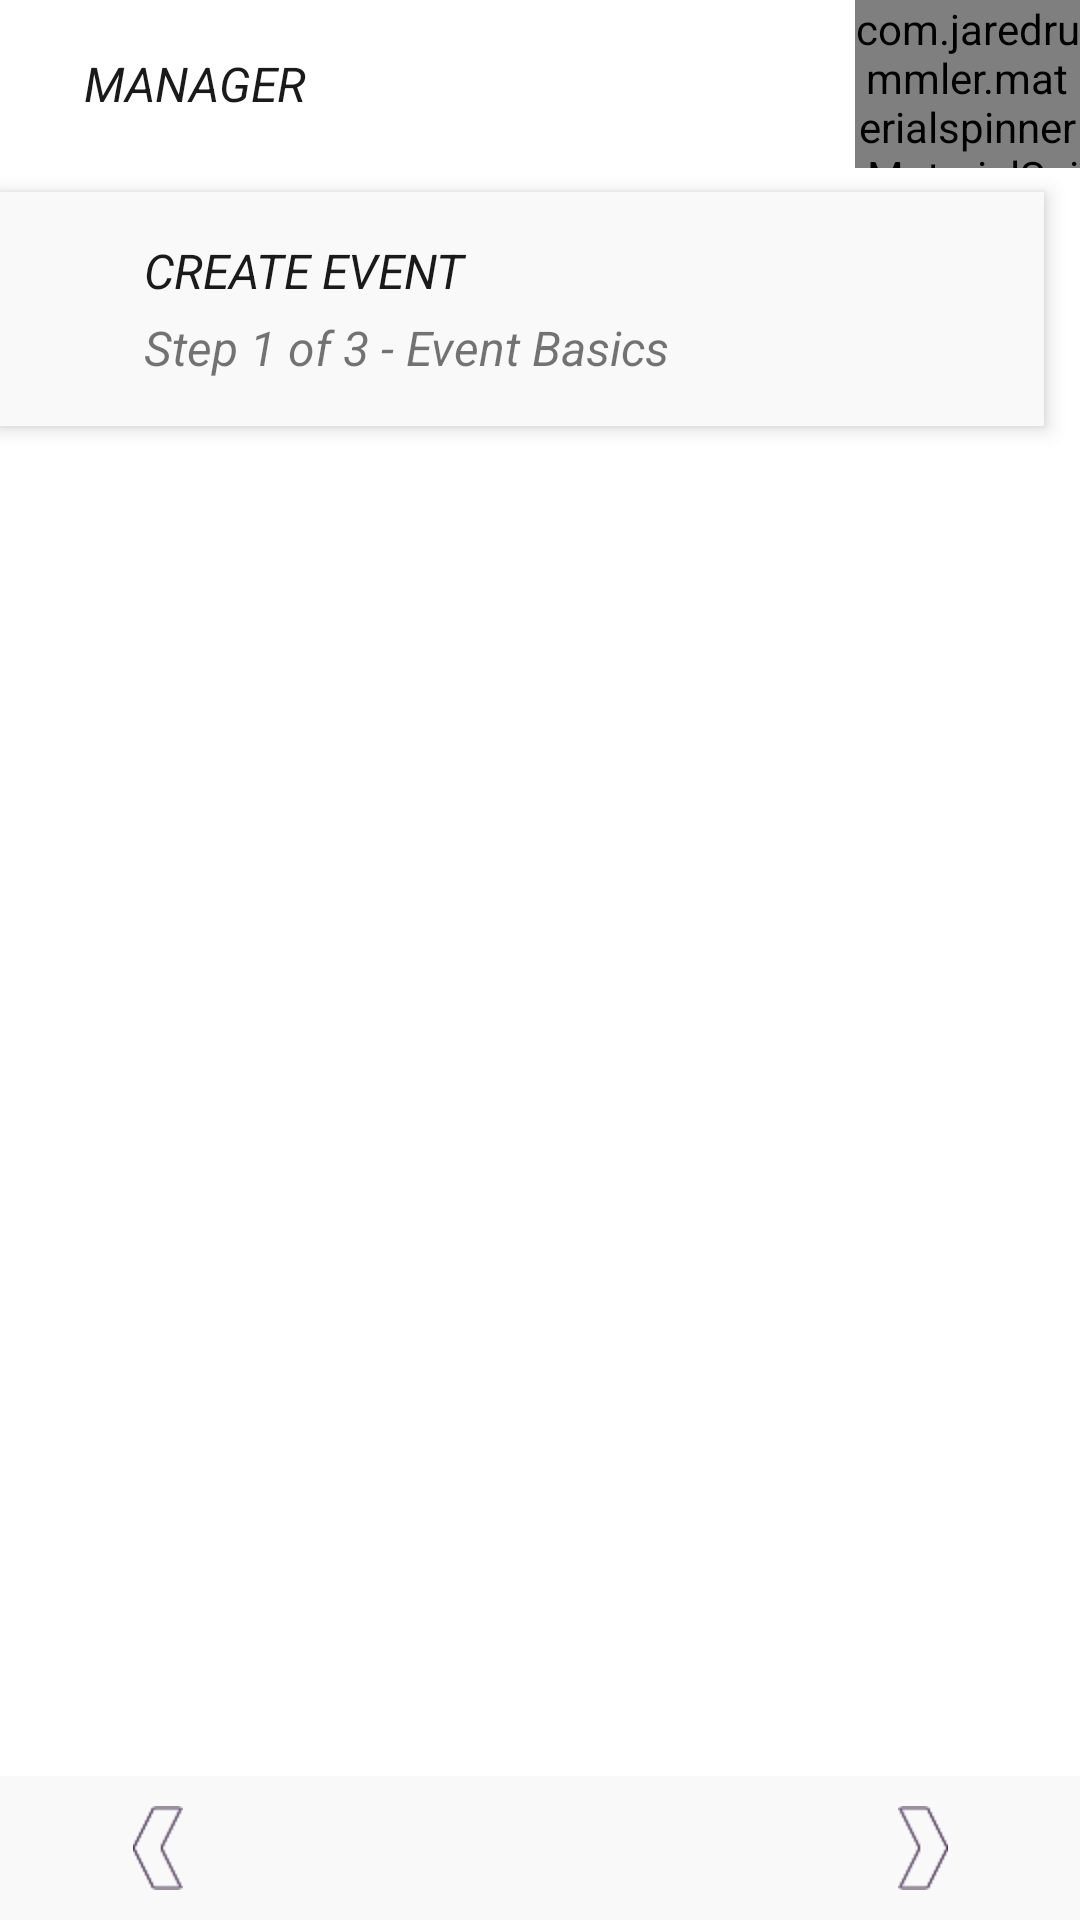

Icon click points for this 1080 × 1920 phone screenshot, format point (x, y):
leftchevron: point (158, 1848)
rightchevron: point (923, 1848)
